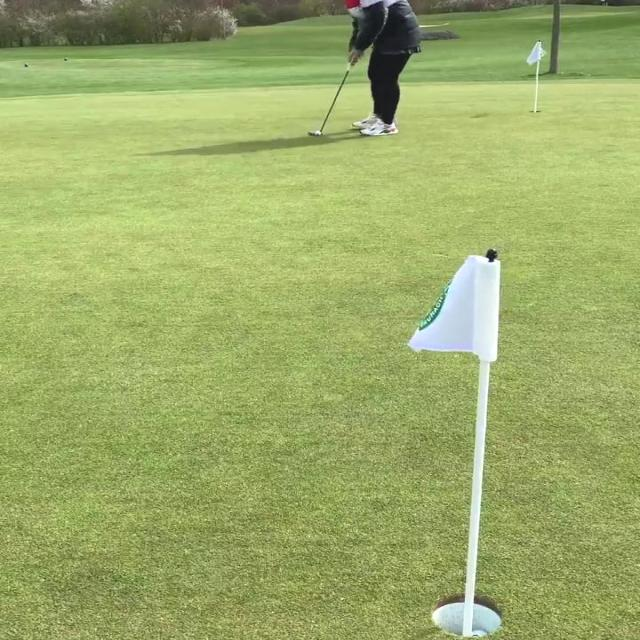ClubHandle: (308, 61, 354, 136)
ClubHead: (307, 132, 321, 136)
GolfBall: (315, 131, 321, 134)
